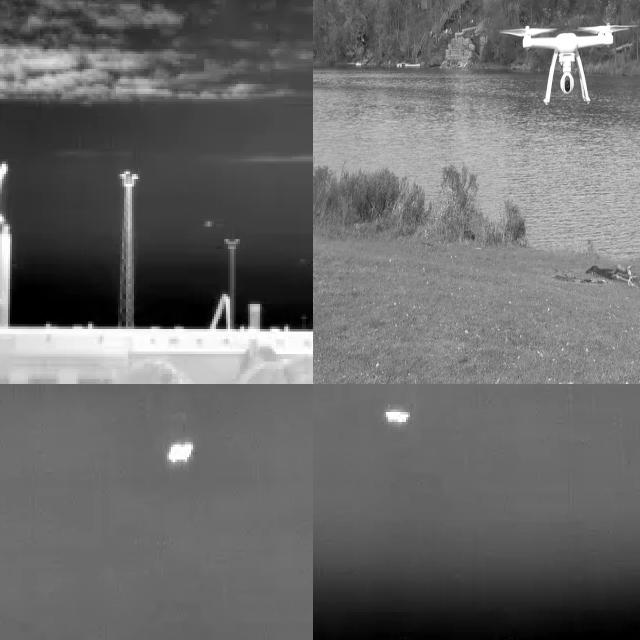0: (200, 211, 230, 239)
1: (378, 403, 422, 436), (160, 440, 204, 472)
drone: (516, 22, 623, 105)
